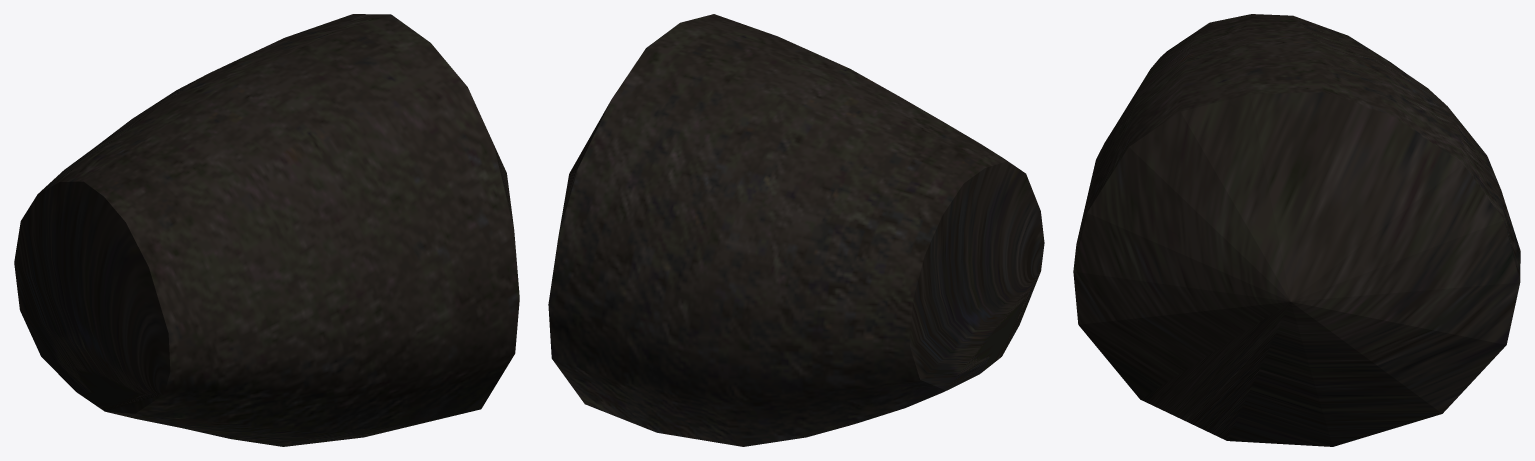
File: AntebrazoDer.obj
The picture shows the model from 3 angles, left to right: view 1: azimuth 30°, elevation 25°; view 2: azimuth 150°, elevation 25°; view 3: azimuth 270°, elevation 25°; orthographic projection. The views are drawn at different scales.
Parts seen in each view (by area): view 1: polySurface13 polySurface12 polySurface10 polySurface4 polySurfa; view 2: polySurface13 polySurface12 polySurface10 polySurface4 polySurfa; view 3: polySurface13 polySurface12 polySurface10 polySurface4 polySurfa.
Part boxes in pixels (<box>): polySurface13 polySurface12 polySurface10 polySurface4 polySurfa: <box>14,14,519,446</box>; polySurface13 polySurface12 polySurface10 polySurface4 polySurfa: <box>548,14,1044,446</box>; polySurface13 polySurface12 polySurface10 polySurface4 polySurfa: <box>1073,14,1520,446</box>.
Size of the model in its own units: 0.5303 by 0.4426 by 0.4949.
1 material, 1 textured.
